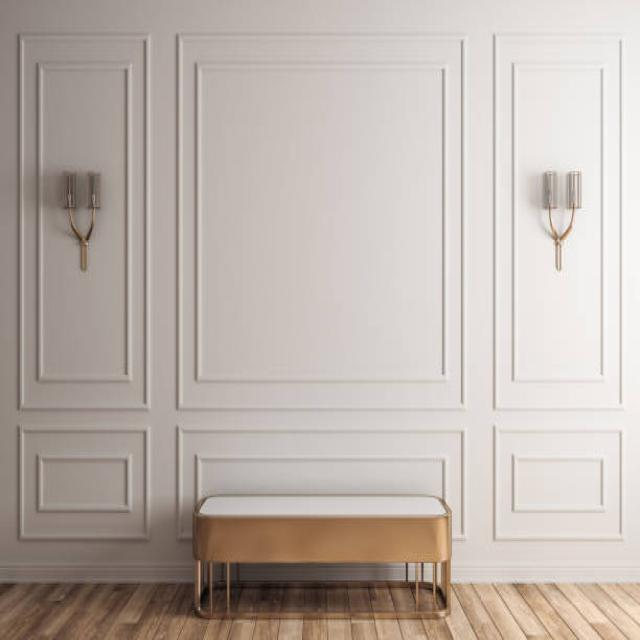table: (194, 494, 452, 619)
